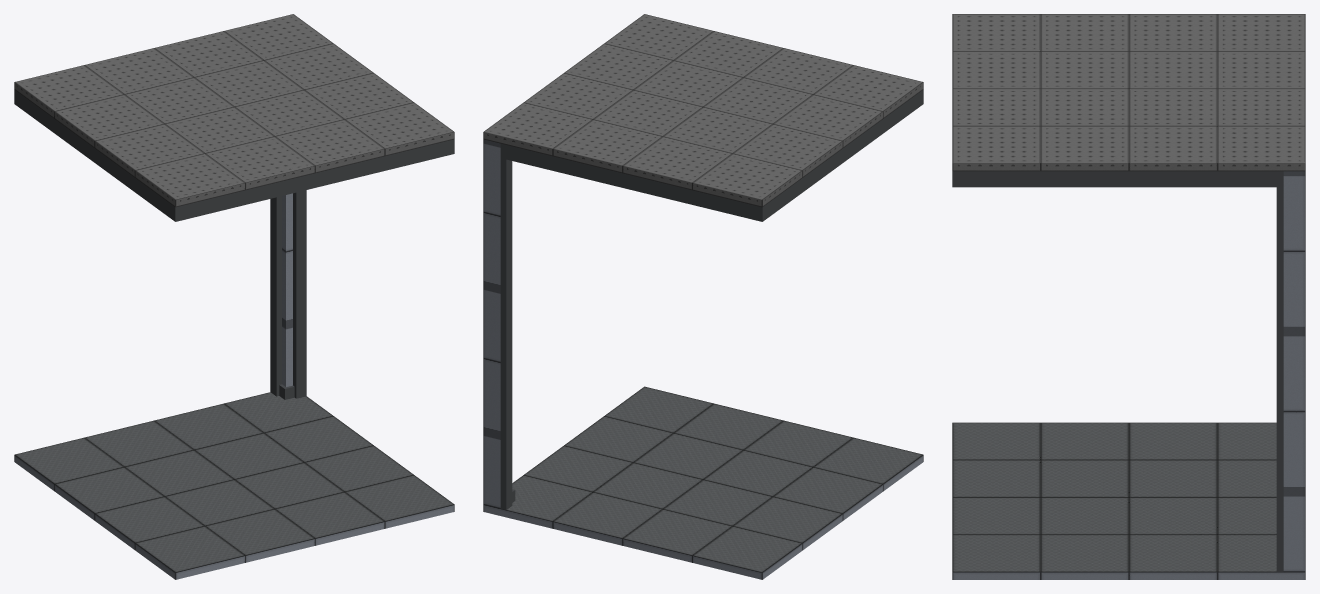
Rendered from Room_SciFi_Pillar.glb.
3 renders of one model, left to right at view 1: azimuth 30°, elevation 25°; view 2: azimuth 150°, elevation 25°; view 3: azimuth 270°, elevation 25°, orthographic. The views are drawn at different scales.
Parts seen in each view (by area): view 1: Room_SciFi_Pillar, Room_SciFi_Pillar_Ceiling; view 2: Room_SciFi_Pillar, Room_SciFi_Pillar_Ceiling; view 3: Room_SciFi_Pillar, Room_SciFi_Pillar_Ceiling.
Boxes of the visible parts, x1,y1,x2,y2 form: Room_SciFi_Pillar: (14,190,454,579); Room_SciFi_Pillar_Ceiling: (14,14,454,221); Room_SciFi_Pillar: (483,139,923,579); Room_SciFi_Pillar_Ceiling: (483,14,923,221); Room_SciFi_Pillar: (952,171,1305,579); Room_SciFi_Pillar_Ceiling: (952,14,1305,187).
Size of the model in its own units: 4 by 5.2 by 4.
Materials: 6 (3 with a texture image).
